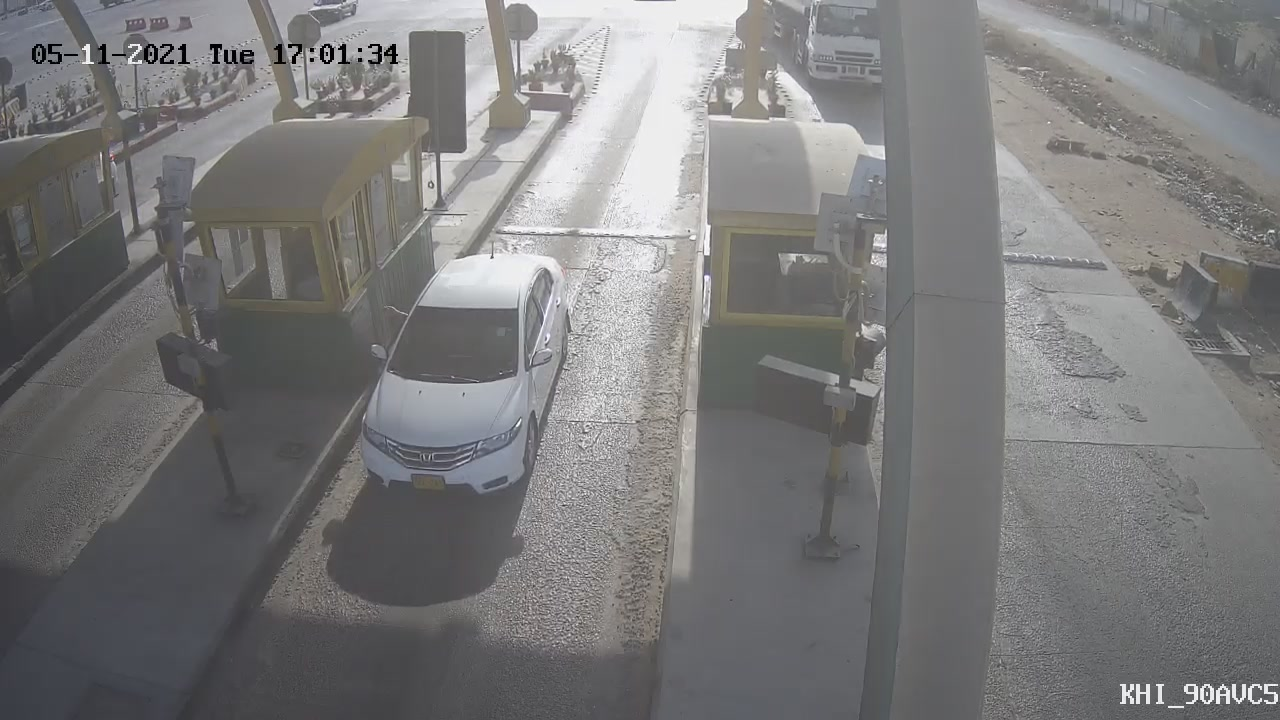F1: (322, 227, 605, 529)
